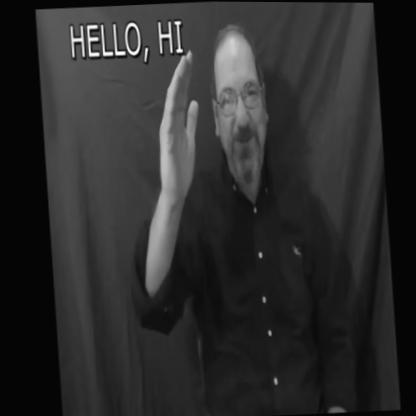Hello: (145, 15, 284, 270)
